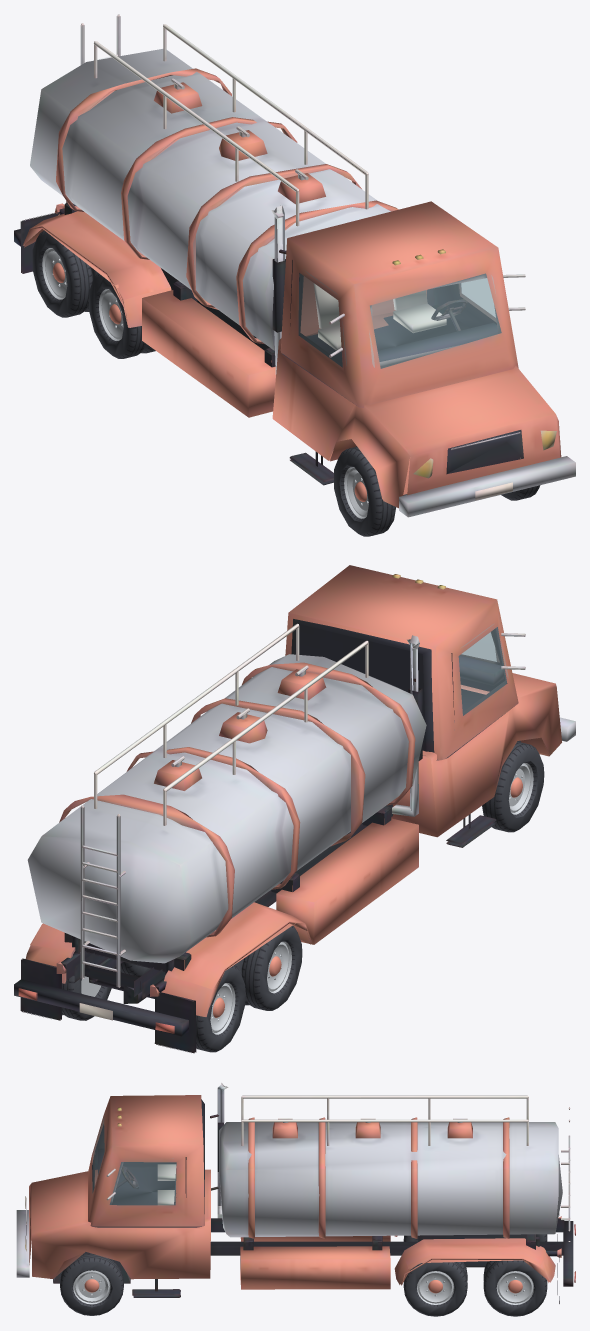
Rendered from lorry.glb.
The picture shows the model from 3 angles, top to bottom: view 1: azimuth 30°, elevation 25°; view 2: azimuth 150°, elevation 25°; view 3: azimuth 270°, elevation 25°; orthographic projection. The views are drawn at different scales.
Parts seen in each view (by area): view 1: body, windows, wheel_RR2, wheel_FR, wheel_RR; view 2: body, wheel_RR, wheel_FR, windows, wheel_RR2, wheel_RL2; view 3: body, wheel_FL, windows, wheel_RL2, wheel_RL.
Part boxes in pixels (left/top/right/bottom): body: left=14, top=14, right=575, bottom=517; windows: left=299, top=271, right=501, bottom=368; wheel_RR2: left=32, top=230, right=98, bottom=317; wheel_FR: left=334, top=446, right=396, bottom=536; wheel_RR: left=89, top=273, right=155, bottom=358; body: left=14, top=565, right=575, bottom=1053; wheel_RR: left=234, top=925, right=302, bottom=1010; wheel_FR: left=482, top=741, right=544, bottom=832; windows: left=459, top=624, right=507, bottom=715; wheel_RR2: left=196, top=965, right=245, bottom=1052; wheel_RL2: left=62, top=952, right=115, bottom=1020; body: left=16, top=1083, right=575, bottom=1303; wheel_FL: left=60, top=1253, right=123, bottom=1315; windows: left=93, top=1118, right=176, bottom=1204; wheel_RL2: left=483, top=1260, right=547, bottom=1316; wheel_RL: left=403, top=1262, right=467, bottom=1316.
Size of the model in its own units: 2.42 by 3.03 by 8.49.
5 materials, 2 textured.
